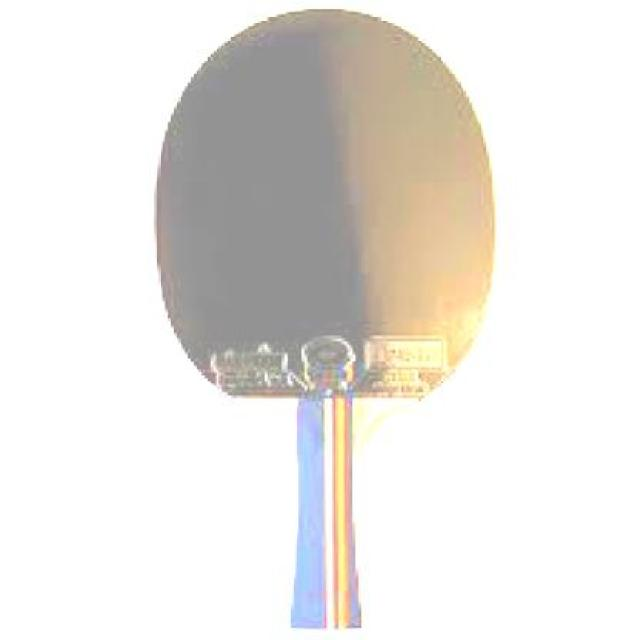table_tennis_racket: (145, 1, 503, 454)
